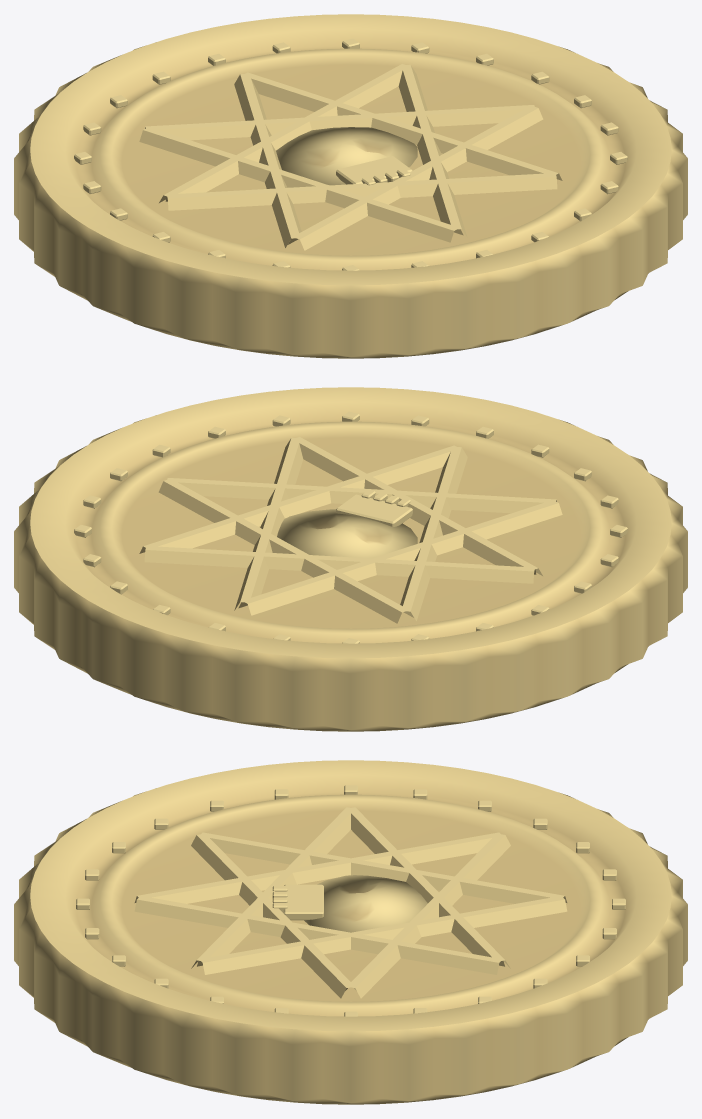
The model's file is coin-obol.glb.
The picture shows the model from 3 angles, top to bottom: view 1: azimuth 30°, elevation 25°; view 2: azimuth 150°, elevation 25°; view 3: azimuth 270°, elevation 25°; orthographic projection.
Visible parts, largest first — view 1: CoinObol; view 2: CoinObol; view 3: CoinObol.
Boxes of the visible parts, x1,y1,x2,y2 form: CoinObol: (14, 14, 687, 358); CoinObol: (14, 387, 687, 731); CoinObol: (14, 760, 687, 1104).
Size of the model in its own units: 2 by 0.24 by 2.
